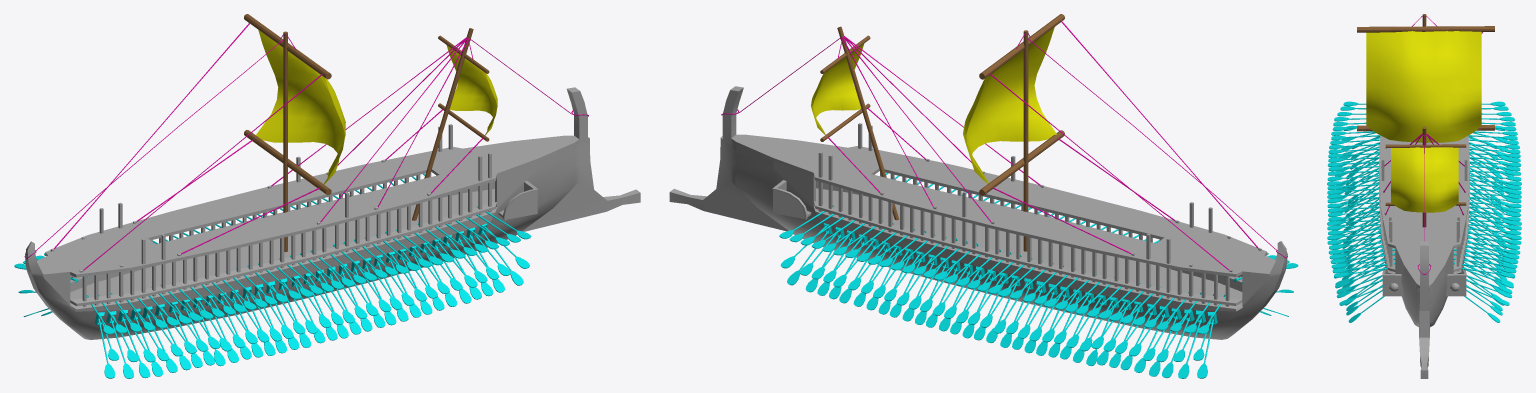
The model's file is Barco4.fbx.
The picture shows the model from 3 angles, left to right: view 1: azimuth 30°, elevation 25°; view 2: azimuth 150°, elevation 25°; view 3: azimuth 270°, elevation 25°; orthographic projection. The views are drawn at different scales.
Visible parts, largest first — view 1: pSphere6, GrupoRemos, pCube78, pPlane1, pCylinder60, pPlane8, pCylinder1, pCube79, pCylinder50, pCylinder2, pCylinder48; view 2: pSphere6, GrupoRemos, pCube78, pPlane1, pCylinder60, pPlane8, pCylinder1, pCube79, pCylinder50, pCylinder2, pCylinder48; view 3: GrupoRemos, pPlane1, pSphere6, pPlane8, pCube79, pCylinder2, pCube78, pCylinder51, pCylinder48, pCylinder60.
Boxes of the visible parts, x1,y1,x2,y2 form: pSphere6: (25,87,640,339); GrupoRemos: (14,173,531,378); pCube78: (71,124,491,306); pPlane1: (255,30,345,184); pCylinder60: (50,22,483,272); pPlane8: (445,45,497,135); pCylinder1: (283,31,287,252); pCube79: (498,180,538,220); pCylinder50: (412,28,473,220); pCylinder2: (244,14,331,79); pCylinder48: (244,130,331,195); pSphere6: (669,86,1287,339); GrupoRemos: (779,173,1298,378); pCube78: (818,123,1240,306); pPlane1: (963,27,1056,183); pCylinder60: (828,20,1261,272); pPlane8: (810,43,865,134); pCylinder1: (1023,30,1028,251); pCube79: (772,180,811,219); pCylinder50: (837,26,898,220); pCylinder2: (979,14,1064,79); pCylinder48: (979,130,1064,195); GrupoRemos: (1327,101,1521,322); pPlane1: (1366,31,1481,142); pSphere6: (1379,135,1469,378); pPlane8: (1391,147,1458,212); pCube79: (1382,270,1466,296); pCylinder2: (1357,26,1494,32); pCube78: (1381,159,1467,271); pCylinder51: (1385,144,1466,148); pCylinder48: (1357,125,1494,131); pCylinder60: (1381,32,1482,215).
Bounding box in the file's own units: 324107 × 139319 × 104441.
